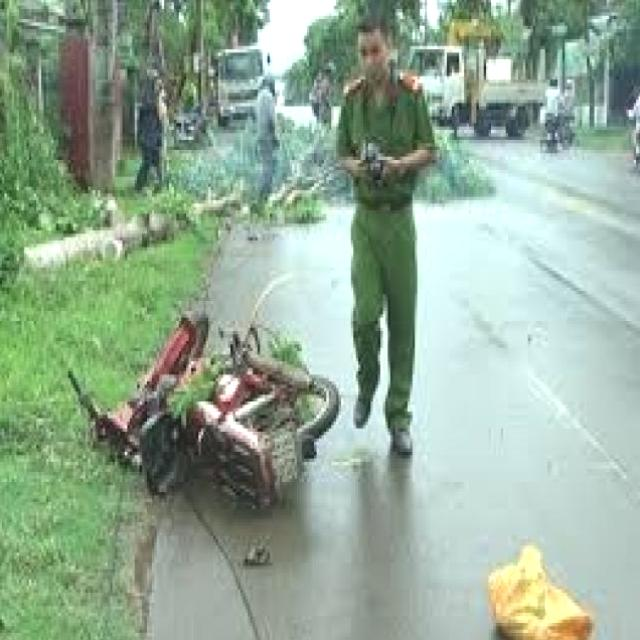fallen_object: (0, 102, 500, 288)
